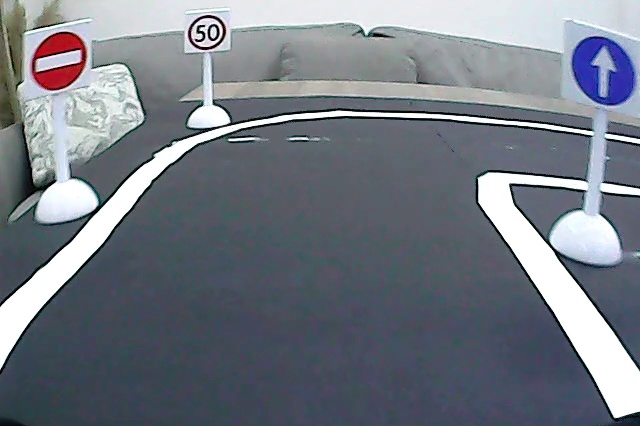do not enter: (28, 30, 90, 95)
speed limit 50: (187, 13, 228, 50)
